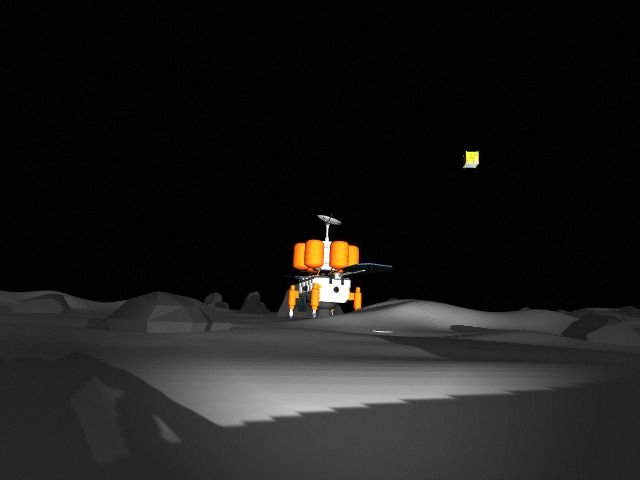homebase: (264, 211, 393, 322)
